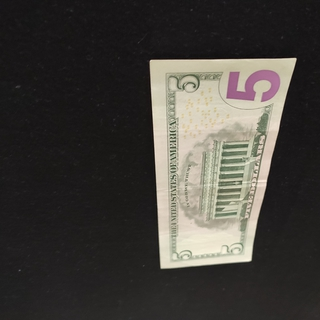5USDBack: (148, 56, 297, 269)
